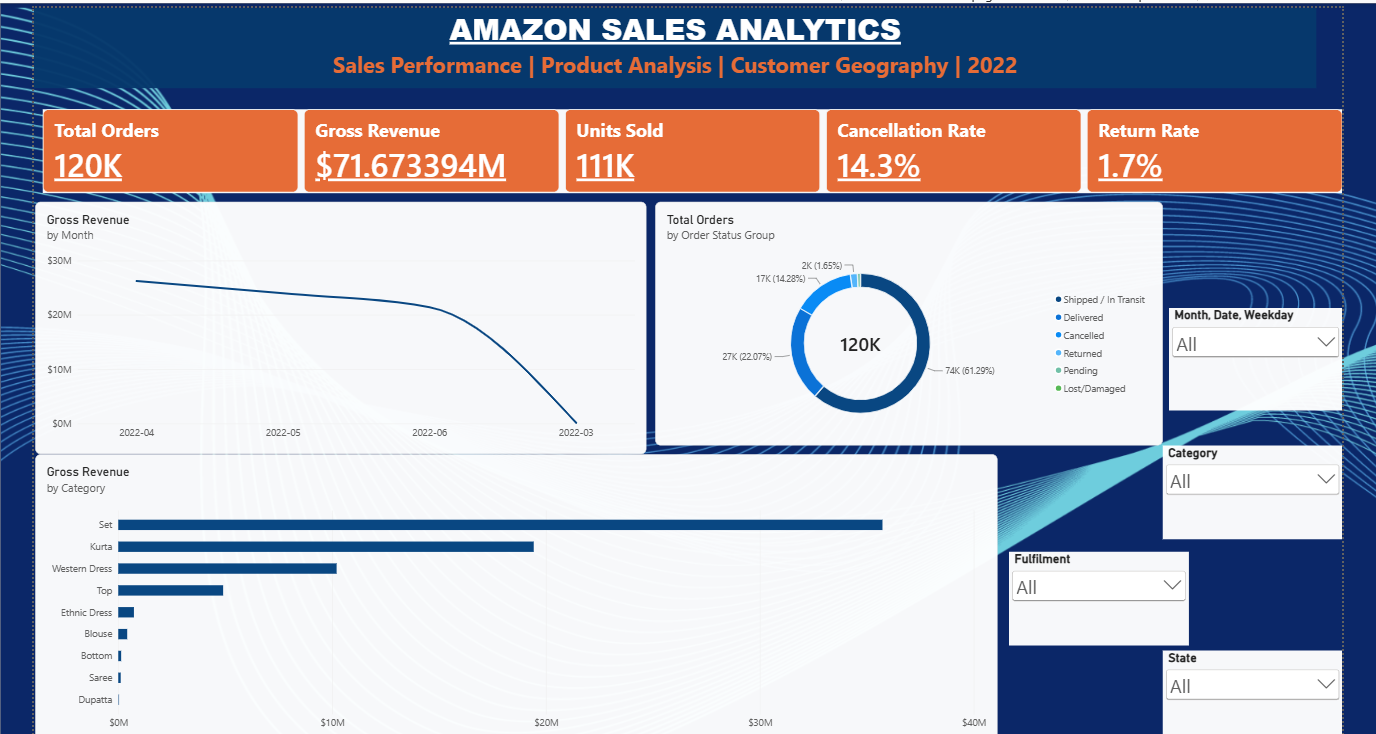

The page's visual inventory and layout, read from the dashboard file:
{"tool":"powerbi","page":{"name":"Overview","canvas":[1920,1080],"ordinal":0},"visuals":[{"type":"cardVisual","fields":{"Data":["Measures (2).Total Orders","Measures (2).Gross Revenue","Measures (2).Units Sold","Measures (2).Cancellation Rate","Measures (2).Return Rate"]},"box":[12.8,148.6,1907.6,122.9],"z":0},{"type":"textbox","box":[0,0,1881.9,117.4],"z":1},{"type":"lineChart","fields":{"Category":["Calendar.Month"],"Y":["Measures (2).Gross Revenue"]},"box":[1.8,284.3,896.9,370.5],"z":2},{"type":"clusteredBarChart","fields":{"Category":["SALES.Category"],"Y":["Measures (2).Gross Revenue"]},"box":[1.8,654.8,1412.4,425.5],"z":3},{"type":"donutChart","fields":{"Category":["SALES.Order Status Group"],"Y":["Measures (2).Total Orders"]},"box":[911.6,284.3,744.7,357.7],"z":4},{"type":"slicer","fields":{"Values":["SALES.Category"]},"box":[1656.3,642,264.1,137.6],"z":5},{"type":"slicer","fields":{"Values":["Calendar.Month","Calendar.Date","Calendar.Weekday"]},"box":[1665.5,440.2,255,150.4],"z":6},{"type":"slicer","fields":{"Values":["SALES.State"]},"box":[1656.3,942.8,264.1,137.6],"z":7},{"type":"slicer","fields":{"Values":["SALES.Fulfilment"]},"box":[1430.7,797.9,264.1,137.6],"z":8}]}

Visuals, with their boxes on the page's 1920x1080 design canvas (x1, y1, x2, y2). These are canvas units, not pixel positions in the 1376x734 screenshot, which may show the page scaled, cropped or inside an application window:
cardVisual - Measures (2).Total Orders x Measures (2).Gross Revenue: [13, 149, 1920, 272]
textbox: [0, 0, 1882, 117]
lineChart - Calendar.Month x Measures (2).Gross Revenue: [2, 284, 899, 655]
clusteredBarChart - SALES.Category x Measures (2).Gross Revenue: [2, 655, 1414, 1080]
donutChart - SALES.Order Status Group x Measures (2).Total Orders: [912, 284, 1656, 642]
slicer - SALES.Category: [1656, 642, 1920, 780]
slicer - Calendar.Month x Calendar.Date: [1666, 440, 1920, 591]
slicer - SALES.State: [1656, 943, 1920, 1080]
slicer - SALES.Fulfilment: [1431, 798, 1695, 936]
